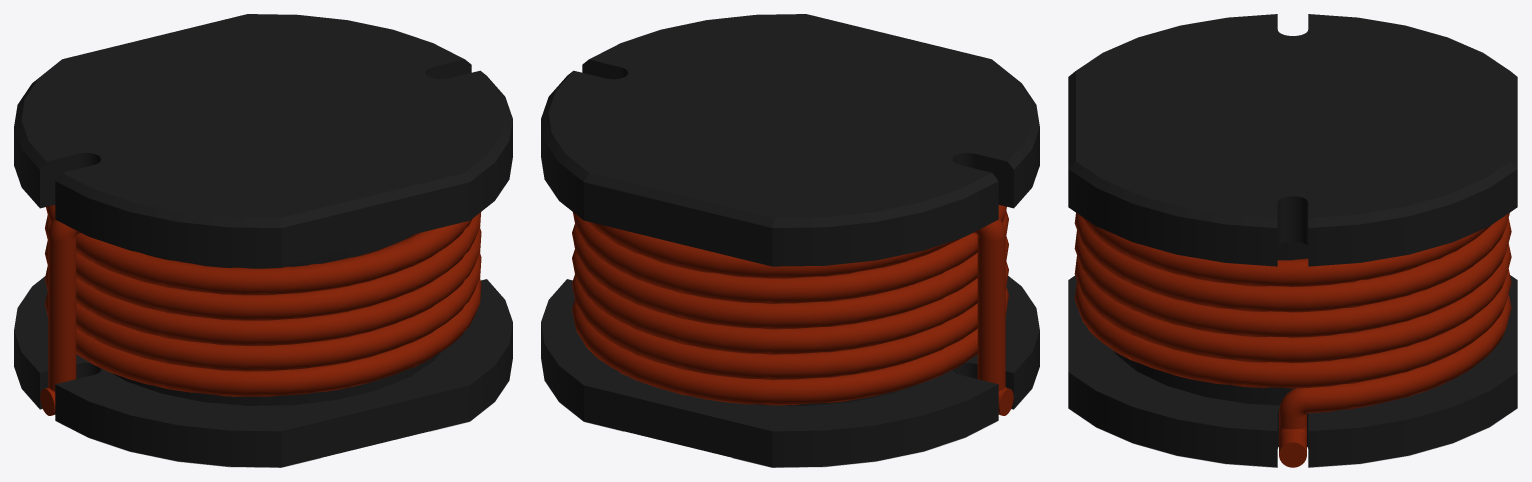
Rendered from CDRH105R.glb.
The picture shows the model from 3 angles, left to right: view 1: azimuth 30°, elevation 25°; view 2: azimuth 150°, elevation 25°; view 3: azimuth 270°, elevation 25°; orthographic projection.
Visible parts, largest first — view 1: Top_Chamfer_Solid, Wire5, Foundation_Solid, Wire8, Cylinder; view 2: Top_Chamfer_Solid, Wire5, Foundation_Solid, Wire8; view 3: Top_Chamfer_Solid, Wire5, Foundation_Solid, Cylinder, Wire1, Wire4, Pinouts_Solid.
Part boxes in pixels (left/top/right/bottom): Top_Chamfer_Solid: left=14, top=14, right=512, bottom=266; Wire5: left=45, top=205, right=481, bottom=396; Foundation_Solid: left=14, top=276, right=512, bottom=467; Wire8: left=48, top=236, right=76, bottom=390; Cylinder: left=112, top=234, right=440, bottom=405; Top_Chamfer_Solid: left=541, top=14, right=1039, bottom=266; Wire5: left=572, top=205, right=1008, bottom=405; Foundation_Solid: left=541, top=276, right=1039, bottom=467; Wire8: left=977, top=236, right=1005, bottom=390; Top_Chamfer_Solid: left=1068, top=14, right=1517, bottom=266; Wire5: left=1074, top=213, right=1511, bottom=413; Foundation_Solid: left=1068, top=275, right=1517, bottom=467; Cylinder: left=1114, top=241, right=1308, bottom=405; Wire1: left=1279, top=429, right=1306, bottom=467; Wire4: left=1279, top=388, right=1307, bottom=418; Pinouts_Solid: left=1068, top=408, right=1517, bottom=467.
Bounding box in the file's own units: 0.01 × 0.00545 × 0.009.
